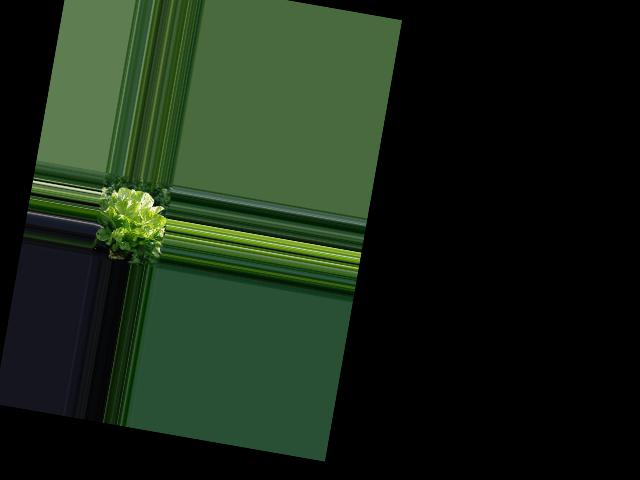lettuce: (94, 185, 164, 253)
